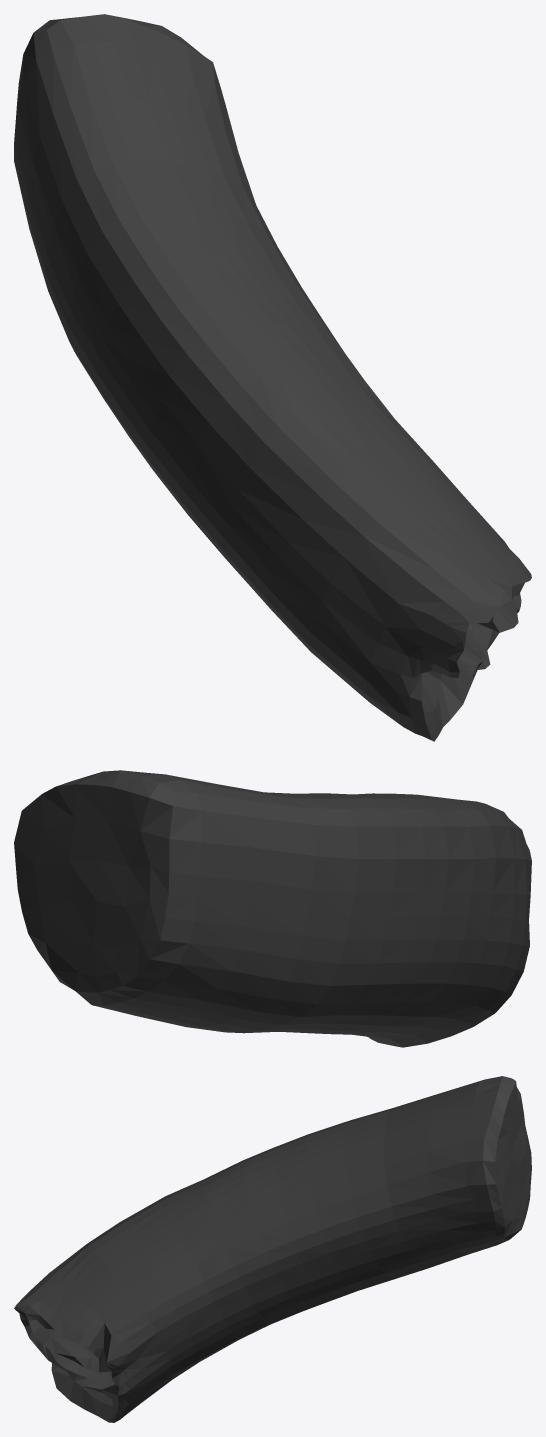
3 views of the same model, one above another, from view 1: azimuth 30°, elevation 25°; view 2: azimuth 150°, elevation 25°; view 3: azimuth 270°, elevation 25° (orthographic). The views are drawn at different scales.
Parts seen in each view (by area): view 1: world; view 2: world; view 3: world.
Part boxes in pixels (box(x1,y1,x2,y2)): world: box(14, 14, 531, 741); world: box(14, 770, 531, 1047); world: box(14, 1076, 531, 1422).
Size of the model in its own units: 0.1529 by 0.2935 by 0.4314.
1 material, 1 textured.
